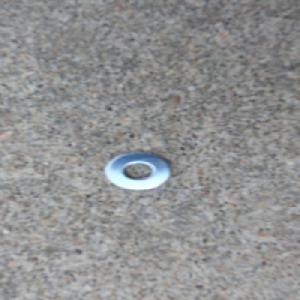Washer: (101, 149, 173, 192)
